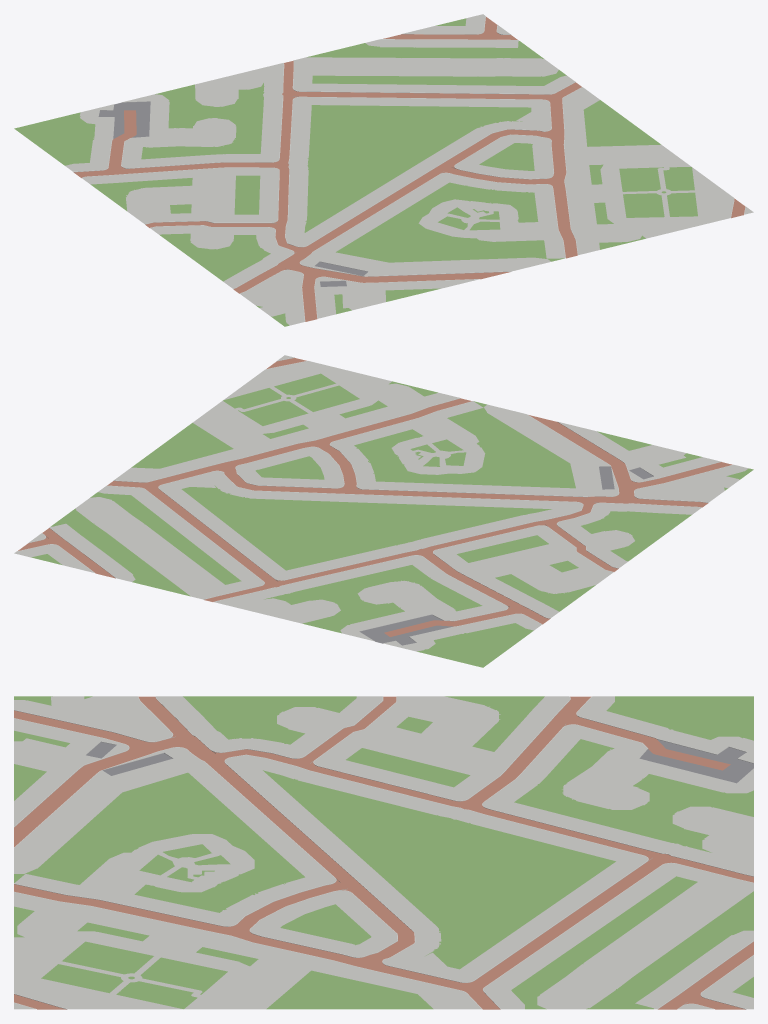
File: ground_7_12.glb
3 renders of one model, top to bottom at view 1: azimuth 30°, elevation 25°; view 2: azimuth 150°, elevation 25°; view 3: azimuth 270°, elevation 25°, orthographic. The views are drawn at different scales.
Visible parts, largest first — view 1: ground_7_12; view 2: ground_7_12; view 3: ground_7_12.
Boxes of the visible parts, <box> form: ground_7_12: <box>14,14,753,326</box>; ground_7_12: <box>14,355,753,667</box>; ground_7_12: <box>14,696,753,1009</box>.
Size of the model in its own units: 200 by 0.12 by 200.
